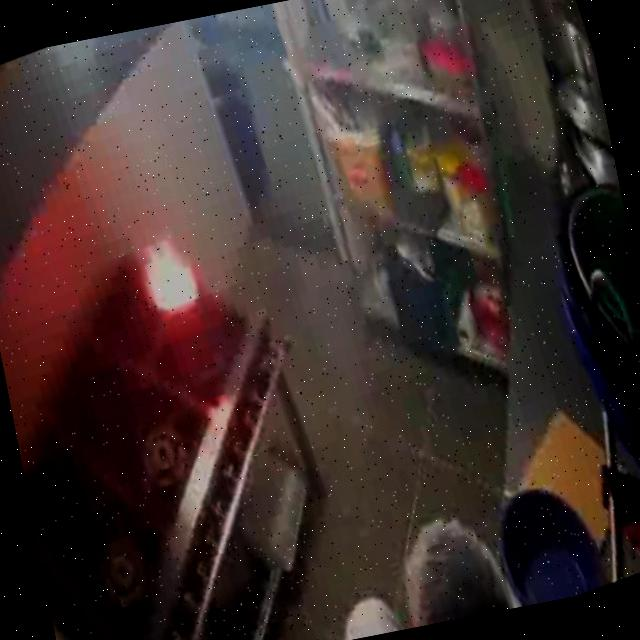fire: (107, 196, 233, 356)
